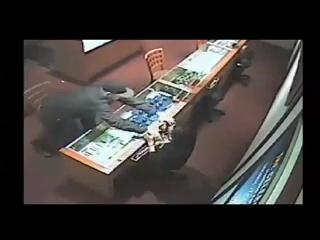shoplifting: (59, 69, 205, 184)
